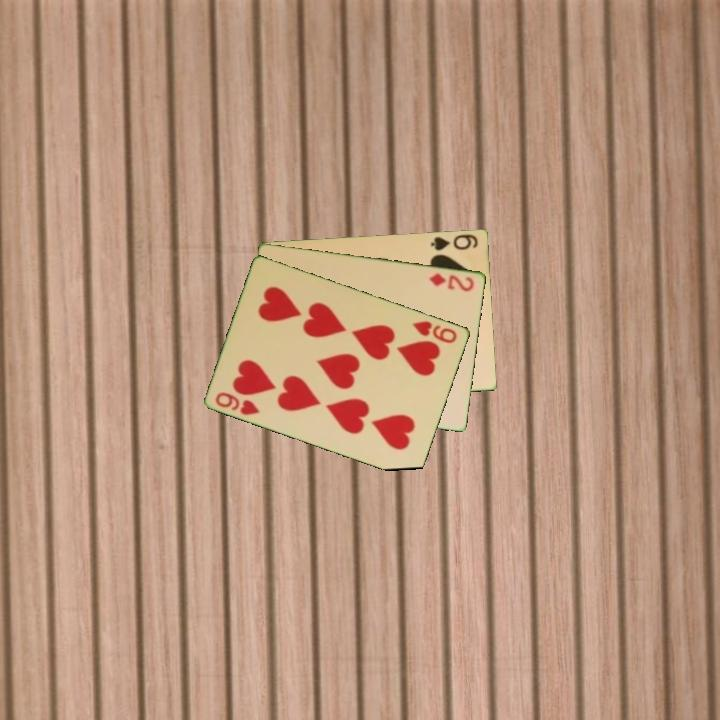2d: (426, 269, 477, 294)
6s: (428, 230, 481, 253)
9h: (212, 388, 264, 418), (409, 317, 460, 346)
